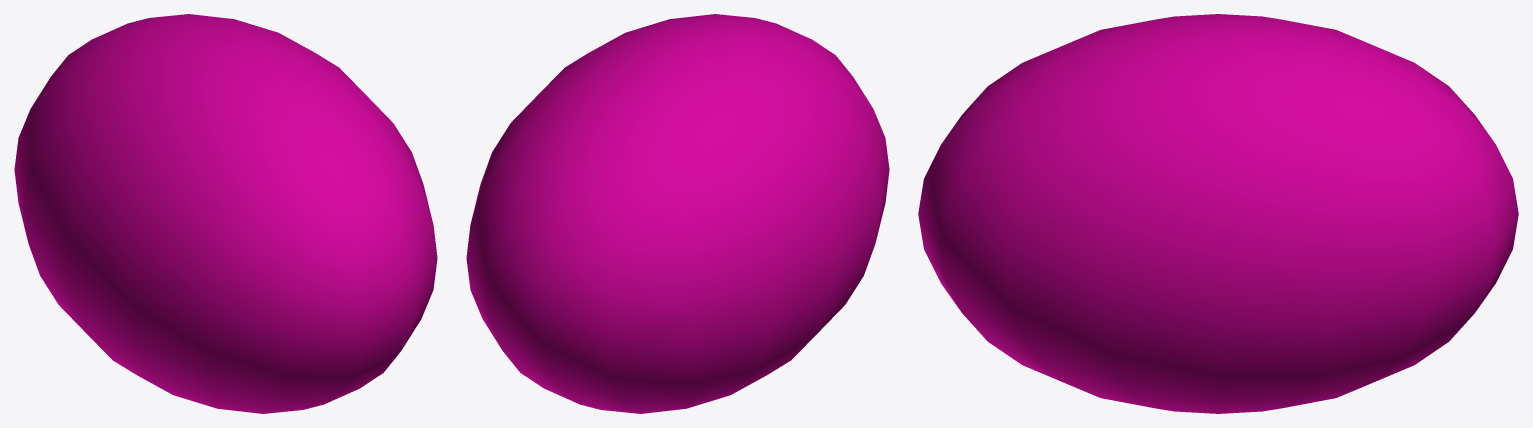
The model's file is FuelCapsule.fbx.
3 renders of one model, left to right at view 1: azimuth 30°, elevation 25°; view 2: azimuth 150°, elevation 25°; view 3: azimuth 270°, elevation 25°, orthographic. The views are drawn at different scales.
Visible parts, largest first — view 1: FuelCapsule; view 2: FuelCapsule; view 3: FuelCapsule.
Boxes of the visible parts, x1=… form: FuelCapsule: x1=14, y1=14, x2=437, y2=413; FuelCapsule: x1=466, y1=14, x2=889, y2=413; FuelCapsule: x1=918, y1=14, x2=1518, y2=413.
Size of the model in its own units: 200 by 200 by 300.
